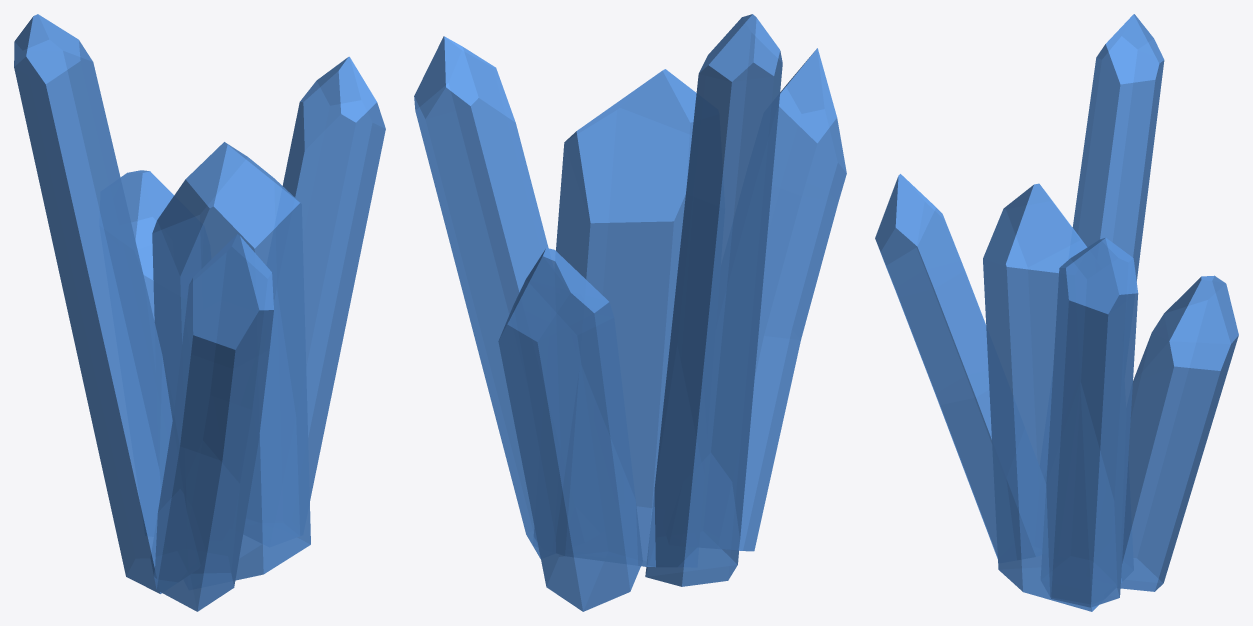
File: Crystals_l_05.fbx
The picture shows the model from 3 angles, left to right: view 1: azimuth 30°, elevation 25°; view 2: azimuth 150°, elevation 25°; view 3: azimuth 270°, elevation 25°; orthographic projection. The views are drawn at different scales.
Parts seen in each view (by area): view 1: Crystals_l_05; view 2: Crystals_l_05; view 3: Crystals_l_05.
Part boxes in pixels (x1,y1,x2,y2): Crystals_l_05: (14, 14, 385, 611); Crystals_l_05: (414, 14, 846, 611); Crystals_l_05: (875, 14, 1238, 611).
Bounding box in the file's own units: 2.69 × 4.24 × 2.75.
